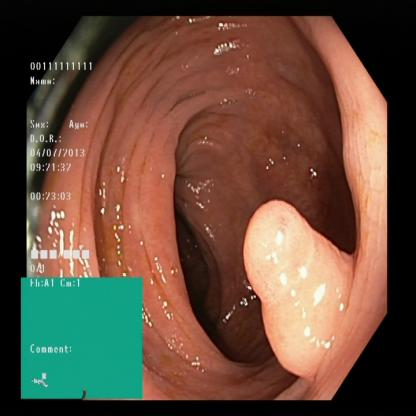Labels: (24, 60, 108, 276), (19, 275, 145, 400)
Polyps: (232, 201, 350, 372)
